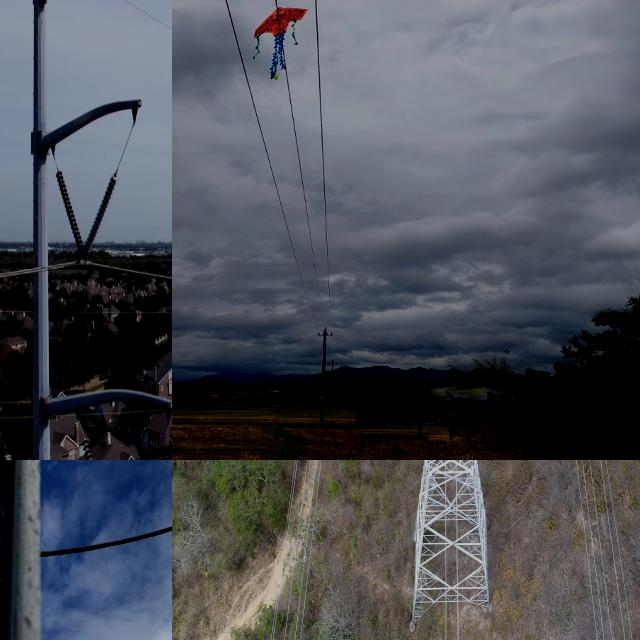杆塔: (294, 460, 595, 623), (0, 460, 57, 640)
植被遮挡: (253, 5, 310, 81)
正常绝缘子: (74, 157, 127, 276), (49, 157, 91, 270), (75, 420, 96, 460)
